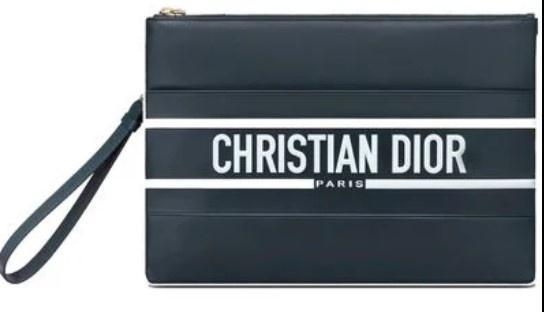DIOR: (205, 118, 474, 198)
